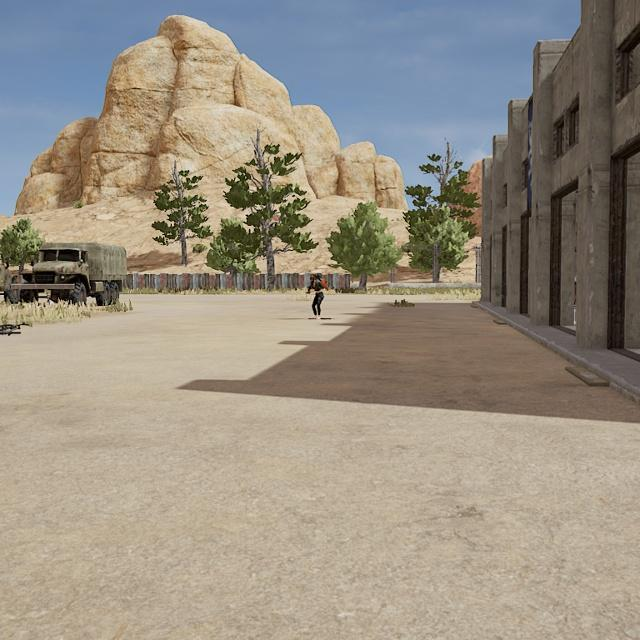head: (309, 272, 318, 283)
people: (307, 272, 326, 320)
